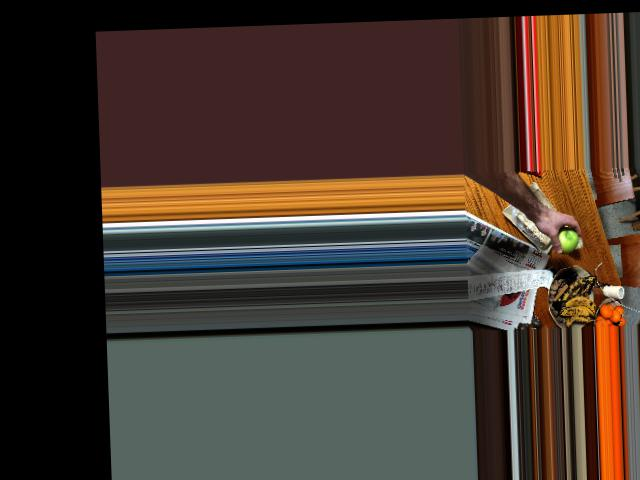apple: (548, 221, 583, 255)
